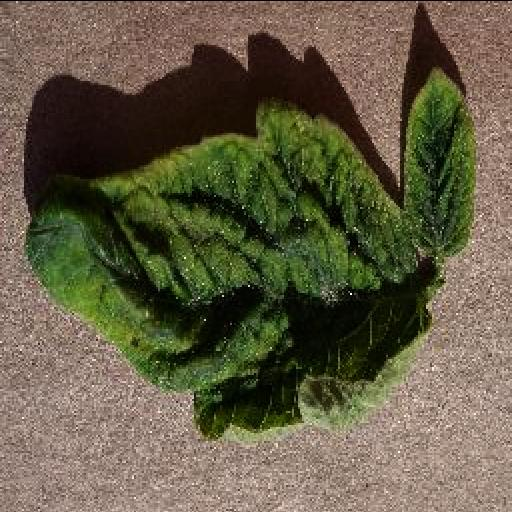disease_tomato: (27, 66, 481, 440)
